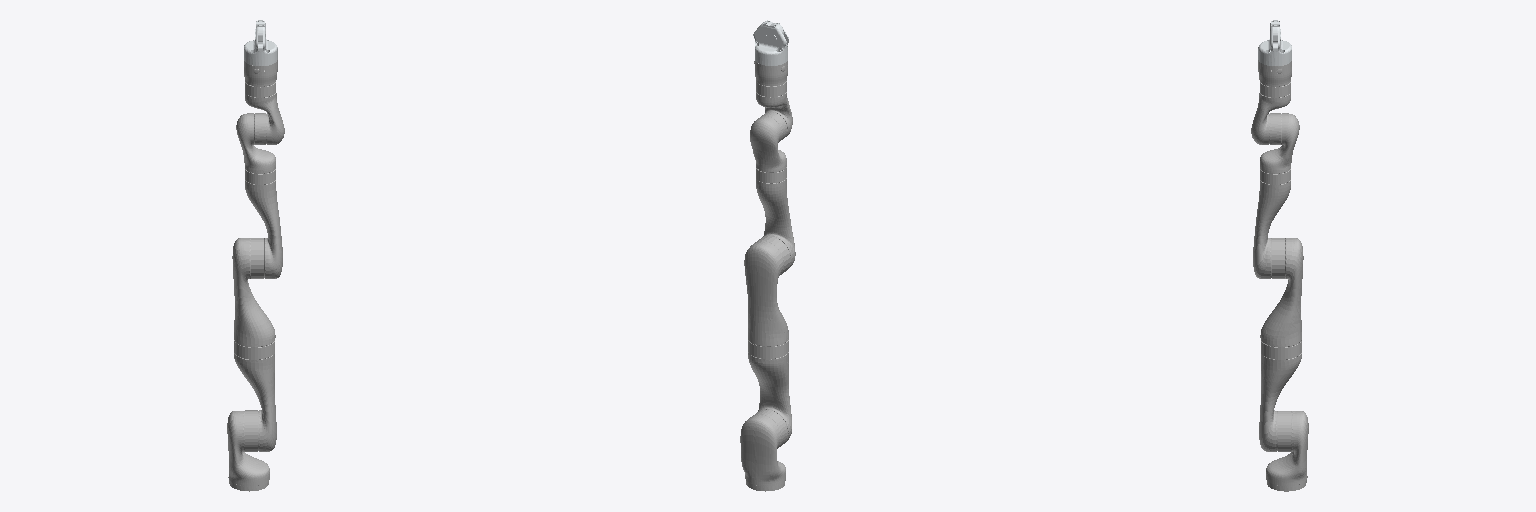
URDF robot description (GEN3_URDF_V12):
<?xml version="1.0" ?>
<robot name="GEN3_URDF_V12" version="1.0">
  <!-- <link name="world">
  </link>
  <joint name="Fix_world" type="fixed">
    <parent link="world" />
    <child link="Base_Link" />
  </joint> -->
  <link name="Base_Link">
    <inertial>
      <origin xyz="-0.000648 -0.000166 0.084487" rpy="0 0 0" />
      <mass value="0" />
      <inertia ixx="0.004622" ixy="9E-06" ixz="6E-05" iyy="0.004495" iyz="9E-06" izz="0.002079" />
    </inertial>
    <visual>
      <origin xyz="0 0 0" rpy="0 0 0" />
      <geometry>
        <mesh filename="meshes/base_link.obj" />
      </geometry>
      <material name="">
        <color rgba="0.75294 0.75294 0.75294 1" />
      </material>
    </visual>
    <collision>
      <origin xyz="0 0 0" rpy="0 0 0" />
      <geometry>
        <mesh filename="meshes/base_link.stl" />
      </geometry>
    </collision>
  </link>
  <link name="Shoulder_Link">
    <inertial>
      <origin xyz="-2.3E-05 -0.010364 -0.07336" rpy="0 0 0" />
      <mass value="1.3773" />
      <inertia ixx="0.00457" ixy="1E-06" ixz="2E-06" iyy="0.004831" iyz="0.000448" izz="0.001409" />
    </inertial>
    <visual>
      <origin xyz="0 0 0" rpy="0 0 0" />
      <geometry>
        <mesh filename="meshes/shoulder_link.obj" />
      </geometry>
      <material name="">
        <color rgba="0.75294 0.75294 0.75294 1" />
      </material>
    </visual>
    <collision>
      <origin xyz="0 0 0" rpy="0 0 0" />
      <geometry>
        <mesh filename="meshes/shoulder_link.stl" />
      </geometry>
    </collision>
  </link>
  <joint name="Actuator1" type="continuous">
    <origin xyz="0 0 0.15643" rpy="3.1416 2.7629E-18 -4.9305E-36" />
    <parent link="Base_Link" />
    <child link="Shoulder_Link" />
    <axis xyz="0 0 1" />
    <limit lower="-1000" upper="1000" effort="39" velocity="0.8727" />
  </joint>
  <link name="HalfArm1_Link">
    <inertial>
      <origin xyz="-4.4E-05 -0.09958 -0.013278" rpy="0 0 0" />
      <mass value="1.1636" />
      <inertia ixx="0.011088" ixy="5E-06" ixz="0" iyy="0.001072" iyz="-0.000691" izz="0.011255" />
    </inertial>
    <visual>
      <origin xyz="0 0 0" rpy="0 0 0" />
      <geometry>
        <mesh filename="meshes/half_arm_1_link.obj" />
      </geometry>
      <material name="">
        <color rgba="0.75294 0.75294 0.75294 1" />
      </material>
    </visual>
    <collision>
      <origin xyz="0 0 0" rpy="0 0 0" />
      <geometry>
        <mesh filename="meshes/half_arm_1_link.stl" />
      </geometry>
    </collision>
  </link>
  <joint name="Actuator2" type="revolute">
    <origin xyz="0 0.005375 -0.12838" rpy="1.5708 2.1343E-17 -1.1102E-16" />
    <parent link="Shoulder_Link" />
    <child link="HalfArm1_Link" />
    <axis xyz="0 0 1" />
    <limit lower="-2.41" upper="2.41" effort="39" velocity="0.8727" />
  </joint>
  <link name="HalfArm2_Link">
    <inertial>
      <origin xyz="-4.4E-05 -0.006641 -0.117892" rpy="0 0 0" />
      <mass value="1.1636" />
      <inertia ixx="0.010932" ixy="0" ixz="-7E-06" iyy="0.011127" iyz="0.000606" izz="0.001043" />
    </inertial>
    <visual>
      <origin xyz="0 0 0" rpy="0 0 0" />
      <geometry>
        <mesh filename="meshes/half_arm_2_link.obj" />
      </geometry>
      <material name="">
        <color rgba="0.75294 0.75294 0.75294 1" />
      </material>
    </visual>
    <collision>
      <origin xyz="0 0 0" rpy="0 0 0" />
      <geometry>
        <mesh filename="meshes/half_arm_2_link.stl" />
      </geometry>
    </collision>
  </link>
  <joint name="Actuator3" type="continuous">
    <origin xyz="0 -0.21038 -0.006375" rpy="-1.5708 1.2326E-32 -2.9122E-16" />
    <parent link="HalfArm1_Link" />
    <child link="HalfArm2_Link" />
    <axis xyz="0 0 1" />
    <limit lower="-1000" upper="1000" effort="39" velocity="0.8727" />
  </joint>
  <link name="ForeArm_Link">
    <inertial>
      <origin xyz="-1.8E-05 -0.075478 -0.015006" rpy="0 0 0" />
      <mass value="0.9302" />
      <inertia ixx="0.008147" ixy="-1E-06" ixz="0" iyy="0.000631" iyz="-0.0005" izz="0.008316" />
    </inertial>
    <visual>
      <origin xyz="0 0 0" rpy="0 0 0" />
      <geometry>
        <mesh filename="meshes/forearm_link.obj" />
      </geometry>
      <material name="">
        <color rgba="0.75294 0.75294 0.75294 1" />
      </material>
    </visual>
    <collision>
      <origin xyz="0 0 0" rpy="0 0 0" />
      <geometry>
        <mesh filename="meshes/forearm_link.stl" />
      </geometry>
    </collision>
  </link>
  <joint name="Actuator4" type="revolute">
    <origin xyz="0 0.006375 -0.21038" rpy="1.5708 -6.6954E-17 -1.6653E-16" />
    <parent link="HalfArm2_Link" />
    <child link="ForeArm_Link" />
    <axis xyz="0 0 1" />
    <limit lower="-2.66" upper="2.66" effort="39" velocity="0.8727" />
  </joint>
  <link name="SphericalWrist1_Link">
    <inertial>
      <origin xyz="1E-06 -0.009432 -0.063883" rpy="0 0 0" />
      <mass value="0.6781" />
      <inertia ixx="0.001596" ixy="0" ixz="0" iyy="0.001607" iyz="0.000256" izz="0.000399" />
    </inertial>
    <visual>
      <origin xyz="0 0 0" rpy="0 0 0" />
      <geometry>
        <mesh filename="meshes/spherical_wrist_1_link.obj" />
      </geometry>
      <material name="">
        <color rgba="0.75294 0.75294 0.75294 1" />
      </material>
    </visual>
    <collision>
      <origin xyz="0 0 0" rpy="0 0 0" />
      <geometry>
        <mesh filename="meshes/spherical_wrist_1_link.stl" />
      </geometry>
    </collision>
  </link>
  <joint name="Actuator5" type="continuous">
    <origin xyz="0 -0.20843 -0.006375" rpy="-1.5708 2.2204E-16 -6.373E-17" />
    <parent link="ForeArm_Link" />
    <child link="SphericalWrist1_Link" />
    <axis xyz="0 0 1" />
    <limit lower="-1000" upper="1000" effort="9" velocity="0.8727" />
  </joint>
  <link name="SphericalWrist2_Link">
    <inertial>
      <origin xyz="1E-06 -0.045483 -0.00965" rpy="0 0 0" />
      <mass value="0.6781" />
      <inertia ixx="0.001641" ixy="0" ixz="0" iyy="0.00041" iyz="-0.000278" izz="0.001641" />
    </inertial>
    <visual>
      <origin xyz="0 0 0" rpy="0 0 0" />
      <geometry>
        <mesh filename="meshes/spherical_wrist_2_link.obj" />
      </geometry>
      <material name="">
        <color rgba="0.75294 0.75294 0.75294 1" />
      </material>
    </visual>
    <collision>
      <origin xyz="0 0 0" rpy="0 0 0" />
      <geometry>
        <mesh filename="meshes/spherical_wrist_2_link.stl" />
      </geometry>
    </collision>
  </link>
  <joint name="Actuator6" type="revolute">
    <origin xyz="0 0.00017505 -0.10593" rpy="1.5708 9.2076E-28 -8.2157E-15" />
    <parent link="SphericalWrist1_Link" />
    <child link="SphericalWrist2_Link" />
    <axis xyz="0 0 1" />
    <limit lower="-2.23" upper="2.23" effort="9" velocity="0.8727" />
  </joint>
  <link name="Bracelet_Link">
    <inertial>
      <origin xyz="-0.000281 -0.011402 -0.029798" rpy="0 0 0" />
      <mass value="0.5006" />
      <inertia ixx="0.000587" ixy="3E-06" ixz="3E-06" iyy="0.000369" iyz="0.000118" izz="0.000609" />
    </inertial>
    <visual>
      <origin xyz="0 0 0" rpy="0 0 0" />
      <geometry>
        <mesh filename="meshes/bracelet_no_vision_link.obj" />
      </geometry>
      <material name="">
        <color rgba="0.75294 0.75294 0.75294 1" />
      </material>
    </visual>
    <collision>
      <origin xyz="0 0 0" rpy="0 0 0" />
      <geometry>
        <mesh filename="meshes/bracelet_no_vision_link.stl" />
      </geometry>
    </collision>
  </link>
  <joint name="Actuator7" type="continuous">
    <origin xyz="0 -0.10593 -0.00017505" rpy="-1.5708 -5.5511E-17 9.6396E-17" />
    <parent link="SphericalWrist2_Link" />
    <child link="Bracelet_Link" />
    <axis xyz="0 0 1" />
    <limit lower="-1000" upper="1000" effort="9" velocity="0.8727" />
  </joint>
  <link name="EndEffector_Link" />
  <joint name="EndEffector" type="fixed">
    <origin xyz="0 0 -0.0615250000000001" rpy="3.14159265358979 1.09937075168372E-32 0" />
    <parent link="Bracelet_Link" />
    <child link="EndEffector_Link" />
    <axis xyz="0 0 0" />
  </joint>
  
  <!-- <link name="Camera_Link" />
  <joint name="Camera" type="fixed">
    <origin xyz="0 0.05639 -0.00305" rpy="3.14159265358979 3.14159265358979 0" />
    <parent link="EndEffector_Link" />
    <child  link="Camera_Link" />
  </joint>
  <link name="Camera_Depth_Frame" />
  <joint name="Camera_Depth" type="fixed">
    <origin xyz="0.0275 0.066 -0.00305" rpy="3.14159265358979 3.14159265358979 0" />
    <parent link="EndEffector_Link" />
    <child  link="Camera_Depth_Frame" />
  </joint>
  <link name="Camera_Color_Frame" />
  <joint name="Camera_Color" type="fixed">
    <origin xyz="0 0.05639 -0.00305" rpy="3.14159265358979 3.14159265358979 0" />
    <parent link="EndEffector_Link" />
    <child  link="Camera_Color_Frame" />
  </joint> -->
  <link name="Tool_Frame"/>
  <joint name="Tool" type="fixed">
      <origin xyz="0 0 0.120" rpy="0 0 0" />
      <parent link="EndEffector_Link" />
      <child link="Tool_Frame" />
      <axis xyz="0 0 0" />
  </joint>

  <!-- On the first day, Darwin created the world -->
  <joint name="gripper_base_joint" type="fixed">
    <!--
    <parent link="end_effector_link"/>
  -->
    <parent link="Bracelet_Link"/>
    <child link="gripper_base"/>
    <origin rpy="1.5707 0.0 0.0" xyz="0.0 0.0 -0.0615250000000001"/>
    <!-- 1.57 -->
  </joint>

  <link name="gripper_base">
    <inertial>
      <origin rpy="0 0 0" xyz="6.91E-06 4.4117E-06 0.031656"/>
      <mass value="0.60831"/>
      <inertia ixx="0.0004596" ixy="1.5559E-09" ixz="1.397E-07" iyy="0.0005181" iyz="-1.0325E-11" izz="0.00036051"/>
    </inertial>
    <visual>
      <origin rpy="0 0 0" xyz="0 0 0"/>
      <geometry>
        <mesh filename="meshes/base_of_gripper.obj"/>
      </geometry>
      <material name="">
        <color rgba="0.89804 0.91765 0.92941 0.25"/>
      </material>
    </visual>
    <collision>
      <origin rpy="0 0 0" xyz="0 0 0"/>
      <geometry>
        <mesh filename="meshes/base_of_gripper.STL"/>
      </geometry>
    </collision>
  </link>
  <link name="gripper_right_spring_link">
    <inertial>
      <origin rpy="0 0 0" xyz="-9.7222E-12 0.028253 6.791E-10"/>
      <mass value="0.029951"/>
      <inertia ixx="1.5103E-05" ixy="-1.0709E-16" ixz="-2.654E-15" iyy="5.0789E-06" iyz="3.2666E-14" izz="1.0707E-05"/>
    </inertial>
    <visual>
      <origin rpy="0 0 0" xyz="0 0 0"/>
      <geometry>
        <mesh filename="meshes/right_spring_link.STL"/>
      </geometry>
      <material name="">
        <color rgba="0.89804 0.91765 0.92941 1"/>
      </material>
    </visual>
    <collision>
      <origin rpy="0 0 0" xyz="0 0 0"/>
      <geometry>
        <mesh filename="meshes/right_spring_link.STL"/>
      </geometry>
    </collision>
  </link>
  <joint name="gripper_right_spring_link_joint" type="fixed">
    <origin rpy="3.1416 0 0.6983" xyz="0.0127 -0.061307 0"/>
    <parent link="gripper_base"/>
    <child link="gripper_right_spring_link"/>
    <axis xyz="0 0 1"/>
    <limit effort="0" lower="0" upper="0.7854" velocity="0"/>
  </joint>
  <link name="gripper_left_spring_link">
    <inertial>
      <origin rpy="0 0 0" xyz="-8.05421701555176E-13 0.0282525952540491 7.27854432947014E-10"/>
      <mass value="0.0299513316731757"/>
      <inertia ixx="1.51025275365861E-05" ixy="1.3893966137107E-16" ixz="-5.21047318848845E-15" iyy="5.07891354120236E-06" iyz="3.47379370230503E-14" izz="1.0706817344978E-05"/>
    </inertial>
    <visual>
      <origin rpy="0 0 0" xyz="0 0 0"/>
      <geometry>
        <mesh filename="meshes/left_spring_link.STL"/>
      </geometry>
      <material name="">
        <color rgba="0.898039215686275 0.917647058823529 0.929411764705882 1"/>
      </material>
    </visual>
    <collision>
      <origin rpy="0 0 0" xyz="0 0 0"/>
      <geometry>
        <mesh filename="meshes/left_spring_link.STL"/>
      </geometry>
    </collision>
  </link>
  <joint name="gripper_left_spring_link_joint" type="fixed">
    <origin rpy="3.1416 0 -0.70092" xyz="-0.0127 -0.061307 0"/>
    <parent link="gripper_base"/>
    <child link="gripper_left_spring_link"/>
    <axis xyz="0 0 1"/>
    <limit effort="0" lower="-0.7854" upper="0" velocity="0"/>
  </joint>
  <link name="gripper_right_driver">
    <inertial>
      <origin rpy="0 0 0" xyz="0.0179377478479594 0.000926031753317007 -4.0741034207454E-11"/>
      <mass value="0.0184906489409923"/>
      <inertia ixx="6.79440339903172E-07" ixy="-2.0728790158877E-07" ixz="5.46290681974064E-15" iyy="3.45929623837714E-06" iyz="7.55029433009734E-15" izz="3.75009298146153E-06"/>
    </inertial>
    <visual>
      <origin rpy="0 0 0" xyz="0 0 0"/>
      <geometry>
        <mesh filename="meshes/right_driver.STL"/>
      </geometry>
      <material name="">
        <color rgba="0.898039215686275 0.917647058823529 0.929411764705882 1"/>
      </material>
    </visual>
    <collision>
      <origin rpy="0 0 0" xyz="0 0 0"/>
      <geometry>
        <mesh filename="meshes/right_driver.STL"/>
      </geometry>
    </collision>
  </link>
  <joint name="gripper_right_driver_joint" type="fixed">
    <origin rpy="3.1416 0 -0.019735" xyz="0.030601 -0.054792 0"/>
    <parent link="gripper_base"/>
    <child link="gripper_right_driver"/>
    <axis xyz="0 0 1"/>
    <limit effort="150" lower="-3.1416" upper="3.1416" velocity="0"/>
  </joint>
  <link name="gripper_right_coupler">
    <inertial>
      <origin rpy="0 0 0" xyz="-0.00277693278884095 0.0214010778170948 -2.64117771736162E-15"/>
      <mass value="0.0273093985570947"/>
      <inertia ixx="8.4351877262463E-06" ixy="8.05599897942411E-07" ixz="3.98563616297657E-19" iyy="2.33117687880373E-06" iyz="-6.91949626399278E-19" izz="6.9133328065108E-06"/>
    </inertial>
    <visual>
      <origin rpy="0 0 0" xyz="0 0 0"/>
      <geometry>
        <mesh filename="meshes/right_coupler.STL"/>
      </geometry>
      <material name="">
        <color rgba="0.898039215686275 0.917647058823529 0.929411764705882 1"/>
      </material>
    </visual>
    <collision>
      <origin rpy="0 0 0" xyz="0 0 0"/>
      <geometry>
        <mesh filename="meshes/right_coupler.STL"/>
      </geometry>
    </collision>
  </link>
  <joint name="gripper_right_coupler_joint" type="fixed">
    <origin rpy="0 0 -0.25804" xyz="0.031486 -0.0040855 0"/>
    <parent link="gripper_right_driver"/>
    <child link="gripper_right_coupler"/>
    <axis xyz="0 0 -1"/>
    <limit effort="0" lower="0.13" upper="0.79" velocity="0"/>
  </joint>
  <link name="gripper_right_follower">
    <inertial>
      <origin rpy="0 0 0" xyz="0.0118738800643238 0.013213950103123 -6.42371679073841E-16"/>
      <mass value="0.0195548943464751"/>
      <inertia ixx="3.99125345460037E-06" ixy="-9.32228708142781E-07" ixz="-1.06756339811242E-18" iyy="1.28831055431048E-06" iyz="-9.53069862405573E-19" izz="4.59174098263665E-06"/>
    </inertial>
    <visual>
      <origin rpy="0 0 0" xyz="0 0 0"/>
      <geometry>
        <mesh filename="meshes/right_follower.STL"/>
      </geometry>
      <material name="">
        <color rgba="0.898039215686275 0.917647058823529 0.929411764705882 1"/>
      </material>
    </visual>
    <collision>
      <origin rpy="0 0 0" xyz="0 0 0"/>
      <geometry>
        <mesh filename="meshes/right_follower.STL"/>
      </geometry>
    </collision>
  </link>
  <joint name="gripper_right_follower_joint" type="fixed">
    <origin rpy="3.1416 0 -2.9033" xyz="-0.0061148 0.047125 0"/>
    <parent link="gripper_right_coupler"/>
    <child link="gripper_right_follower"/>
    <axis xyz="0 0 1"/>
    <limit effort="0" lower="-3.1416" upper="3.1416" velocity="0"/>
  </joint>
  <link name="gripper_right_pad">
    <inertial>
      <origin rpy="0 0 0" xyz="0.000197179990555962 0.003 -5.73415880070697E-15"/>
      <mass value="0.0112846745192962"/>
      <inertia ixx="4.84198905594698E-07" ixy="1.17467826101044E-22" ixz="-2.69493952498347E-22" iyy="1.75287448520128E-06" iyz="3.01393554780919E-23" izz="1.33638362672235E-06"/>
    </inertial>
    <visual>
      <origin rpy="0 0 0" xyz="0 0 0"/>
      <geometry>
        <mesh filename="meshes/right_pad.STL"/>
      </geometry>
      <material name="">
        <color rgba="0.529411764705882 0.549019607843137 0.549019607843137 1"/>
      </material>
    </visual>
    <collision>
      <origin rpy="0 0 0" xyz="0 0 0"/>
      <geometry>
        <mesh filename="meshes/right_pad.STL"/>
      </geometry>
    </collision>
  </link>
  <joint name="gripper_right_pad_joint" type="fixed">
    <origin rpy="3.1416 0 -1.5708" xyz="0.024903 0.032264 0"/>
    <parent link="gripper_right_follower"/>
    <child link="gripper_right_pad"/>
    <axis xyz="0 0 0"/>
  </joint>
  <link name="gripper_left_driver">
    <inertial>
      <origin rpy="0 0 0" xyz="0.0179377478480944 0.000926031754016808 -4.09476305946672E-11"/>
      <mass value="0.0184906489414316"/>
      <inertia ixx="6.79440340033055E-07" ixy="-2.07287901659297E-07" ixz="5.48822371152932E-15" iyy="3.45929623843939E-06" iyz="7.56200742857023E-15" izz="3.75009298156646E-06"/>
    </inertial>
    <visual>
      <origin rpy="0 0 0" xyz="0 0 0"/>
      <geometry>
        <mesh filename="meshes/left_driver.STL"/>
      </geometry>
      <material name="">
        <color rgba="0.898039215686275 0.917647058823529 0.929411764705882 1"/>
      </material>
    </visual>
    <collision>
      <origin rpy="0 0 0" xyz="0 0 0"/>
      <geometry>
        <mesh filename="meshes/left_driver.STL"/>
      </geometry>
    </collision>
  </link>
  <joint name="gripper_left_driver_joint" type="fixed">
    <origin rpy="0 0 -3.1245" xyz="-0.030601 -0.054792 0"/>
    <parent link="gripper_base"/>
    <child link="gripper_left_driver"/>
    <axis xyz="0 0 1"/>
    <limit effort="150" lower="-3.1416" upper="3.1416" velocity="0"/>
  </joint>
  <link name="gripper_left_coupler">
    <inertial>
      <origin rpy="0 0 0" xyz="-0.00277693278884093 0.0214010778170948 -2.65696393157366E-15"/>
      <mass value="0.0273093985570947"/>
      <inertia ixx="8.43518772624629E-06" ixy="8.05599897942414E-07" ixz="3.98028057558574E-19" iyy="2.33117687880373E-06" iyz="-6.91715450328278E-19" izz="6.9133328065108E-06"/>
    </inertial>
    <visual>
      <origin rpy="0 0 0" xyz="0 0 0"/>
      <geometry>
        <mesh filename="meshes/left_coupler.STL"/>
      </geometry>
      <material name="">
        <color rgba="0.898039215686275 0.917647058823529 0.929411764705882 1"/>
      </material>
    </visual>
    <collision>
      <origin rpy="0 0 0" xyz="0 0 0"/>
      <geometry>
        <mesh filename="meshes/left_coupler.STL"/>
      </geometry>
    </collision>
  </link>
  <joint name="gripper_left_coupler_joint" type="fixed">
    <origin rpy="3.1416 0 -3.1416" xyz="0.031486 -0.0040855 0"/>
    <parent link="gripper_left_driver"/>
    <child link="gripper_left_coupler"/>
    <axis xyz="0 0 1"/>
    <limit effort="0" lower="0.13" upper="0.79" velocity="0"/>
  </joint>
  <link name="gripper_left_follower">
    <inertial>
      <origin rpy="0 0 0" xyz="0.0118738800643238 0.013213950103123 2.13813023929037E-15"/>
      <mass value="0.0195548943464751"/>
      <inertia ixx="3.99125345460038E-06" ixy="-9.32228708142783E-07" ixz="-1.06843707618223E-18" iyy="1.28831055431048E-06" iyz="-9.54631781105362E-19" izz="4.59174098263666E-06"/>
    </inertial>
    <visual>
      <origin rpy="0 0 0" xyz="0 0 0"/>
      <geometry>
        <mesh filename="meshes/left_follower.STL"/>
      </geometry>
      <material name="">
        <color rgba="0.898039215686275 0.917647058823529 0.929411764705882 1"/>
      </material>
    </visual>
    <collision>
      <origin rpy="0 0 0" xyz="0 0 0"/>
      <geometry>
        <mesh filename="meshes/left_follower.STL"/>
      </geometry>
    </collision>
  </link>
  <joint name="gripper_left_follower_joint" type="fixed">
    <origin rpy="0 0 0.017192" xyz="-0.0061148 0.047125 0"/>
    <parent link="gripper_left_coupler"/>
    <child link="gripper_left_follower"/>
    <axis xyz="0 0 1"/>
    <limit effort="0" lower="-3.1416" upper="3.1416" velocity="0"/>
  </joint>
  <link name="gripper_left_pad">
    <inertial>
      <origin rpy="0 0 0" xyz="0.00019717999055599 0.003 8.49842392779646E-15"/>
      <mass value="0.0112846745192961"/>
      <inertia ixx="4.84198905594697E-07" ixy="7.66025016740815E-22" ixz="4.8234593310579E-23" iyy="1.75287448520127E-06" iyz="-9.35905899337494E-24" izz="1.33638362672235E-06"/>
    </inertial>
    <visual>
      <origin rpy="0 0 0" xyz="0 0 0"/>
      <geometry>
        <mesh filename="meshes/left_pad.STL"/>
      </geometry>
      <material name="">
        <color rgba="0.529411764705882 0.549019607843137 0.549019607843137 1"/>
      </material>
    </visual>
    <collision>
      <origin rpy="0 0 0" xyz="0 0 0"/>
      <geometry>
        <mesh filename="meshes/left_pad.STL"/>
      </geometry>
    </collision>
  </link>
  <joint name="gripper_left_pad_joint" type="fixed">
    <origin rpy="0 0 -1.5708" xyz="0.018903 0.032265 0"/>
    <parent link="gripper_left_follower"/>
    <child link="gripper_left_pad"/>
    <axis xyz="0 0 0"/>
  </joint>
</robot>

--- Render facts (derived) ---
Views: 3 orthographic renders of the robot side by side, from view 1: azimuth 90°, elevation 25°; view 2: azimuth 150°, elevation 25°; view 3: azimuth 270°, elevation 25°.
Robot: GEN3_URDF_V12 — 21 links, 20 joints (3 revolute, 4 continuous, 13 fixed); root link Base_Link; default pose: every joint at zero.
Links seen in each view (by area): view 1: HalfArm2_Link, HalfArm1_Link, Shoulder_Link, ForeArm_Link, SphericalWrist1_Link, SphericalWrist2_Link, gripper_base, Bracelet_Link; view 2: HalfArm2_Link, Shoulder_Link, HalfArm1_Link, ForeArm_Link, SphericalWrist1_Link, gripper_base, SphericalWrist2_Link, Bracelet_Link; view 3: HalfArm2_Link, HalfArm1_Link, Shoulder_Link, ForeArm_Link, SphericalWrist1_Link, SphericalWrist2_Link, gripper_base, Bracelet_Link.
Link boxes in pixels (left/top/right/bottom): HalfArm2_Link: left=232, top=238, right=275, bottom=347; HalfArm1_Link: left=234, top=340, right=276, bottom=451; Shoulder_Link: left=227, top=410, right=269, bottom=491; ForeArm_Link: left=245, top=169, right=282, bottom=278; SphericalWrist1_Link: left=236, top=113, right=275, bottom=173; SphericalWrist2_Link: left=245, top=82, right=284, bottom=144; gripper_base: left=244, top=20, right=277, bottom=65; Bracelet_Link: left=244, top=60, right=277, bottom=86; HalfArm2_Link: left=744, top=236, right=790, bottom=346; Shoulder_Link: left=740, top=410, right=787, bottom=491; HalfArm1_Link: left=748, top=340, right=791, bottom=443; ForeArm_Link: left=756, top=167, right=795, bottom=268; SphericalWrist1_Link: left=750, top=112, right=787, bottom=172; gripper_base: left=753, top=20, right=788, bottom=65; SphericalWrist2_Link: left=756, top=81, right=792, bottom=136; Bracelet_Link: left=754, top=61, right=787, bottom=86; HalfArm2_Link: left=1260, top=238, right=1303, bottom=347; HalfArm1_Link: left=1259, top=340, right=1301, bottom=451; Shoulder_Link: left=1266, top=411, right=1308, bottom=491; ForeArm_Link: left=1253, top=169, right=1290, bottom=278; SphericalWrist1_Link: left=1260, top=113, right=1299, bottom=173; SphericalWrist2_Link: left=1251, top=82, right=1290, bottom=144; gripper_base: left=1258, top=20, right=1291, bottom=65; Bracelet_Link: left=1258, top=60, right=1291, bottom=86.
Bounding box of the posed robot: 0.0927 × 0.1267 × 1.12 m (x, y, z).
Meshes: 19 distinct files referenced, 8 mesh visuals loaded (8 OBJ); not drawn: 11 (reference not matched to a file when rendering).